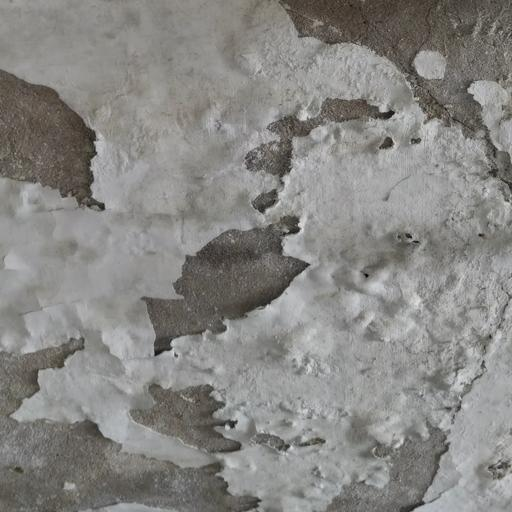peeling: (3, 334, 512, 512), (219, 0, 512, 214), (118, 202, 324, 351), (0, 31, 117, 208)
